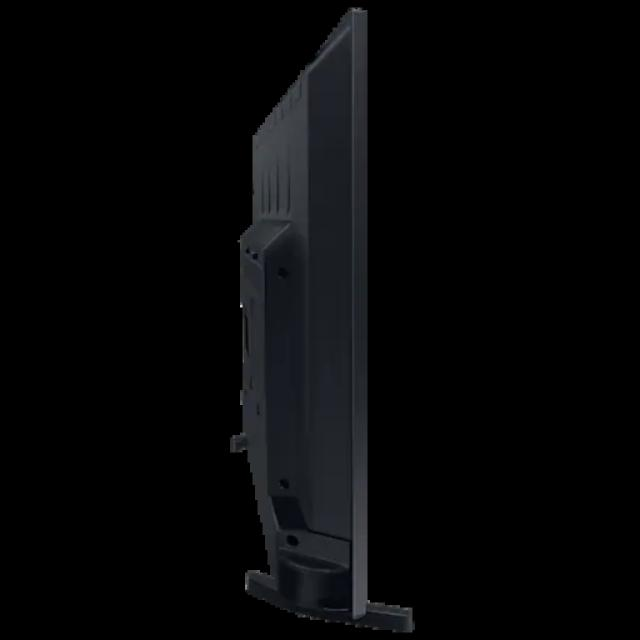electronics: (231, 9, 412, 631)
